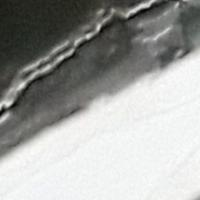crack: (0, 0, 191, 126)
